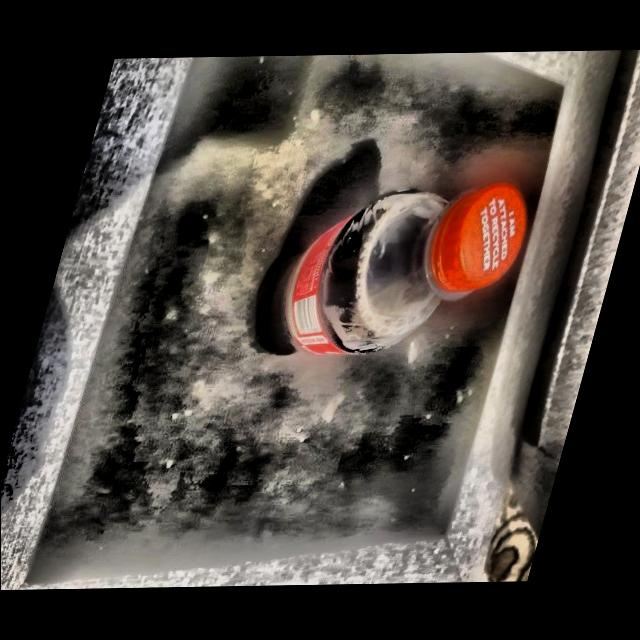coke-bottle: (274, 187, 534, 361)
